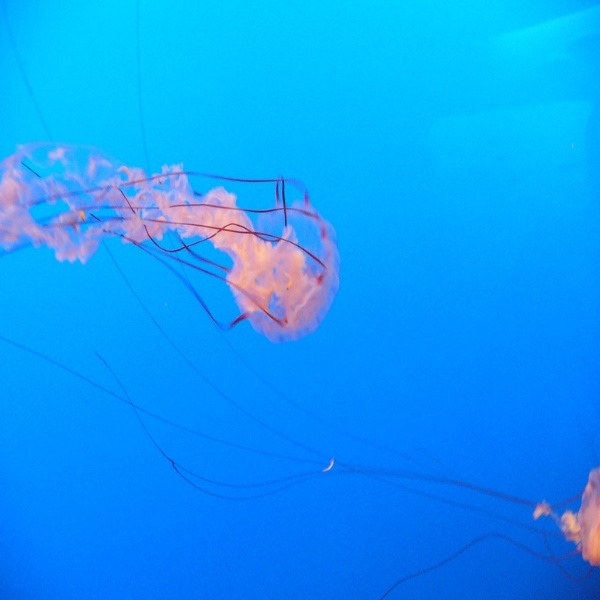Jellyfish: (8, 7, 600, 600), (0, 141, 340, 344)
